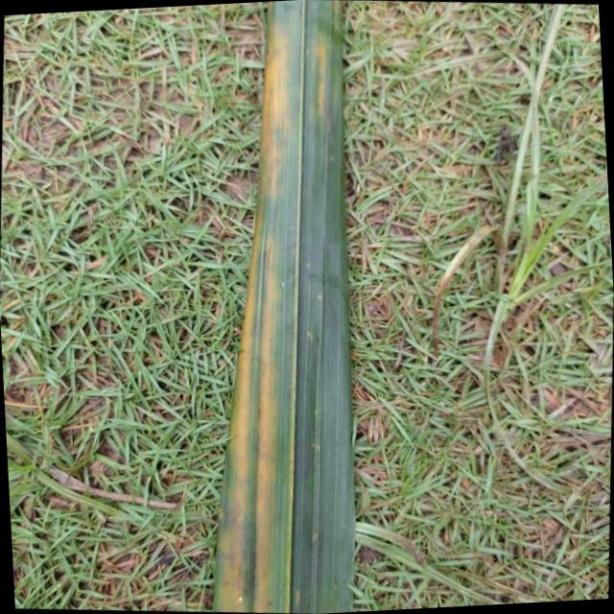Megnesium: (211, 0, 355, 614)
